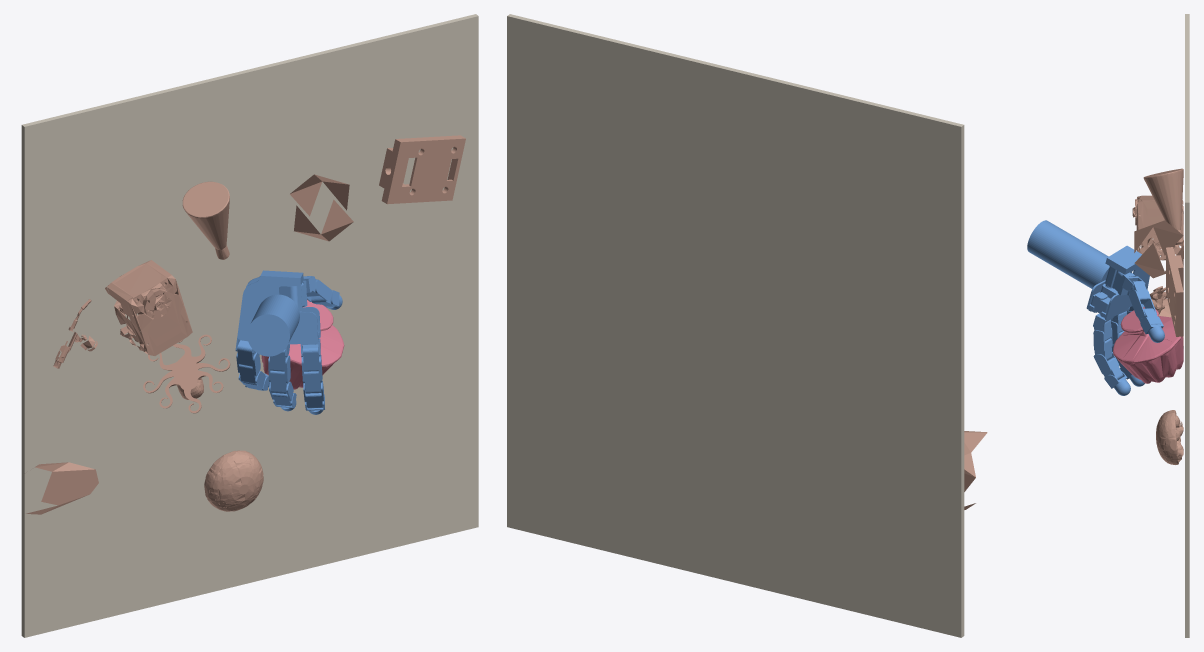
3 views of the same model, side by side, from view 1: azimuth 30°, elevation 25°; view 2: azimuth 150°, elevation 25°; view 3: azimuth 270°, elevation 25° (orthographic). The views are drawn at different scales.
Parts seen in each view (by area): view 1: environment, hand, obstacle_002, obstacle_006, obstacle_000, obstacle_001, obstacle_005, obstacle_007, obstacle_003, world, obstacle_004; view 2: environment, obstacle_003; view 3: hand, world, environment, obstacle_001, obstacle_005, obstacle_002, obstacle_006, obstacle_000, obstacle_007.
Boxes of the visible parts, x1=… form: environment: x1=21, y1=14, x2=478, y2=637; hand: x1=235, y1=270, x2=342, y2=414; obstacle_002: x1=105, y1=260, x2=192, y2=355; obstacle_006: x1=379, y1=135, x2=465, y2=204; obstacle_000: x1=204, y1=450, x2=263, y2=511; obstacle_001: x1=182, y1=181, x2=229, y2=259; obstacle_005: x1=290, y1=174, x2=353, y2=241; obstacle_007: x1=143, y1=334, x2=230, y2=413; obstacle_003: x1=26, y1=462, x2=98, y2=514; world: x1=261, y1=300, x2=344, y2=389; obstacle_004: x1=53, y1=299, x2=97, y2=368; environment: x1=507, y1=14, x2=964, y2=637; obstacle_003: x1=964, y1=431, x2=987, y2=509; hand: x1=1027, y1=220, x2=1164, y2=395; world: x1=1113, y1=307, x2=1183, y2=383; environment: x1=1185, y1=14, x2=1189, y2=637; obstacle_001: x1=1143, y1=168, x2=1183, y2=244; obstacle_005: x1=1134, y1=220, x2=1183, y2=278; obstacle_002: x1=1132, y1=195, x2=1183, y2=260; obstacle_006: x1=1166, y1=247, x2=1183, y2=336; obstacle_000: x1=1156, y1=410, x2=1183, y2=464; obstacle_007: x1=1150, y1=286, x2=1166, y2=314.
Size of the model in its own units: 0.7519 by 0.7886 by 0.2669.
